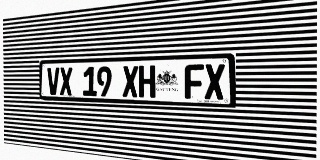1: (83, 67, 97, 96)
9: (97, 66, 112, 97)
F: (185, 64, 204, 99)
H: (139, 65, 155, 98)
V: (47, 67, 59, 95)
X: (205, 64, 225, 100), (122, 66, 138, 97), (60, 67, 72, 95)
